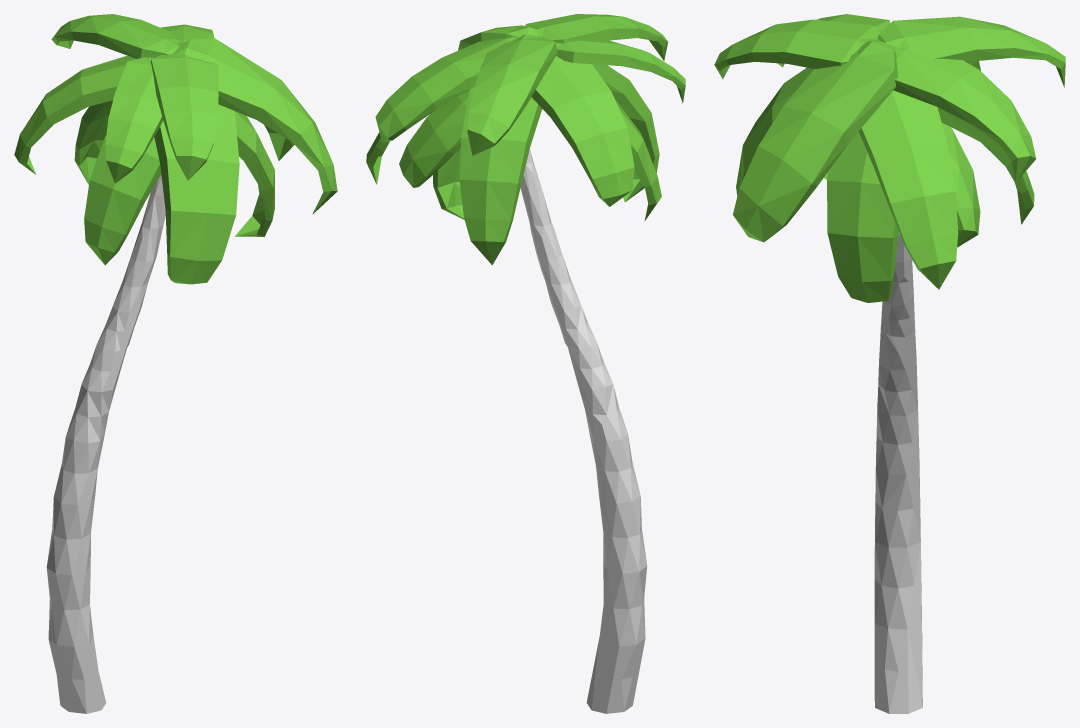
File: Palm.fbx
The picture shows the model from 3 angles, left to right: view 1: azimuth 30°, elevation 25°; view 2: azimuth 150°, elevation 25°; view 3: azimuth 270°, elevation 25°; orthographic projection. The views are drawn at different scales.
Parts seen in each view (by area): view 1: barks.001; view 2: barks.001; view 3: barks.001.
Part boxes in pixels (bbox=[...]): barks.001: bbox=[14, 14, 337, 713]; barks.001: bbox=[366, 14, 685, 713]; barks.001: bbox=[714, 14, 1065, 713].
Bounding box in the file's own units: 166 × 382 × 170.
